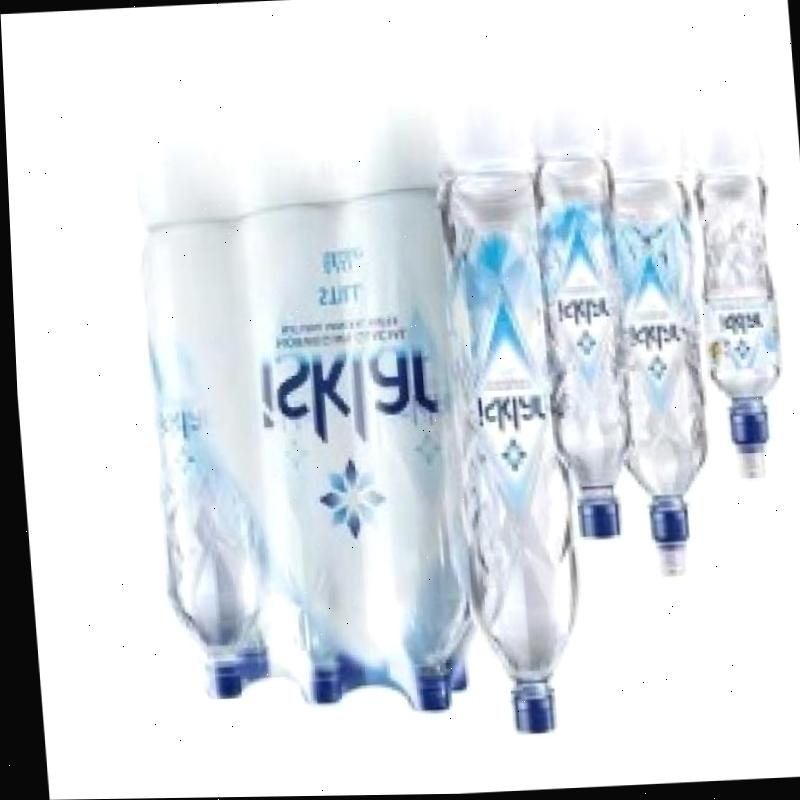botella: (434, 174, 578, 740), (222, 198, 376, 710), (337, 189, 477, 715), (126, 221, 260, 701), (597, 169, 713, 580), (530, 154, 632, 551), (681, 169, 788, 479), (441, 642, 474, 698), (233, 651, 258, 688)
